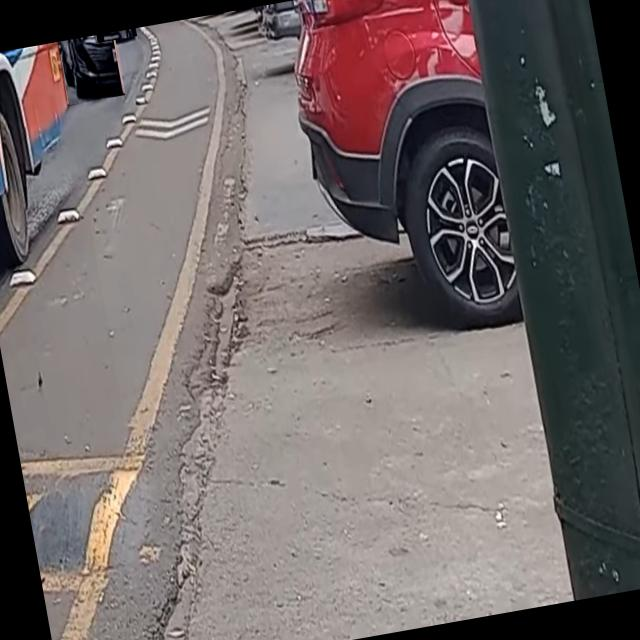bus: (0, 41, 131, 478)
car: (58, 32, 124, 104), (94, 28, 137, 42)
